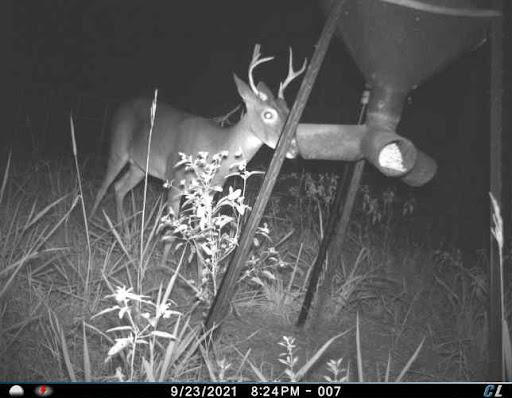Deer: (104, 38, 306, 282)
